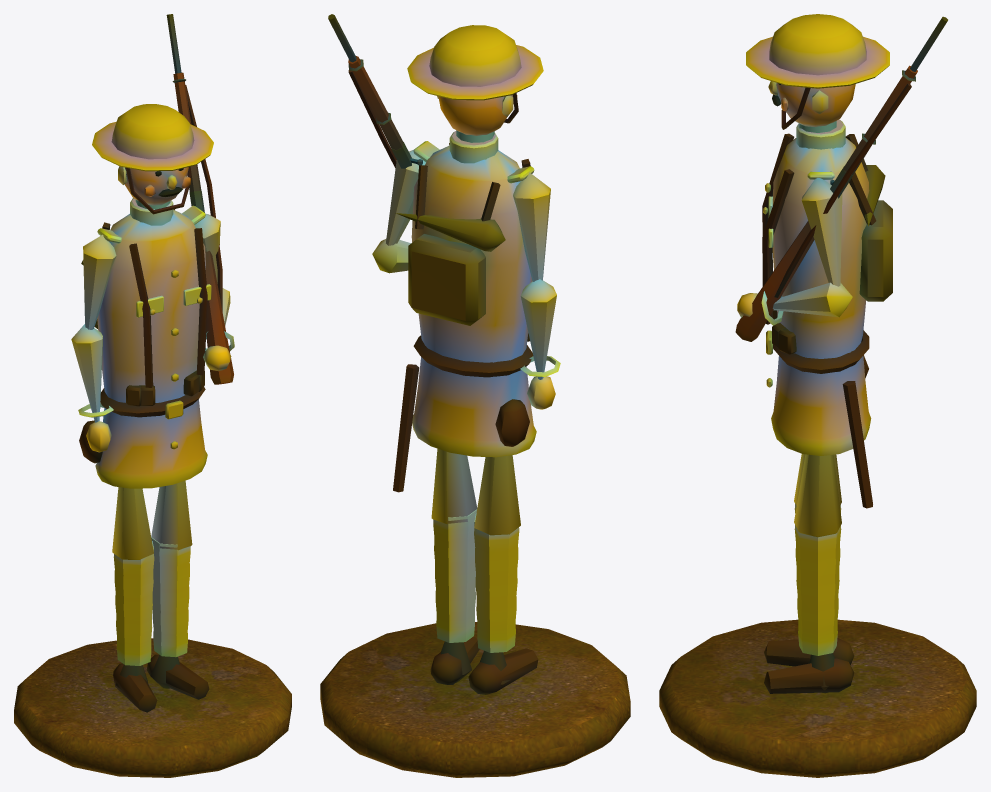
Rendered from infantry.glb.
The picture shows the model from 3 angles, left to right: view 1: azimuth 30°, elevation 25°; view 2: azimuth 150°, elevation 25°; view 3: azimuth 270°, elevation 25°; orthographic projection. The views are drawn at different scales.
Parts seen in each view (by area): view 1: infantry; view 2: infantry; view 3: infantry.
Part boxes in pixels (left/top/right/bottom): infantry: left=14, top=14, right=291, bottom=777; infantry: left=320, top=14, right=630, bottom=777; infantry: left=659, top=14, right=976, bottom=777.
Size of the model in its own units: 0.1004 by 0.2575 by 0.1004.
Materials: 11 (1 with a texture image).
